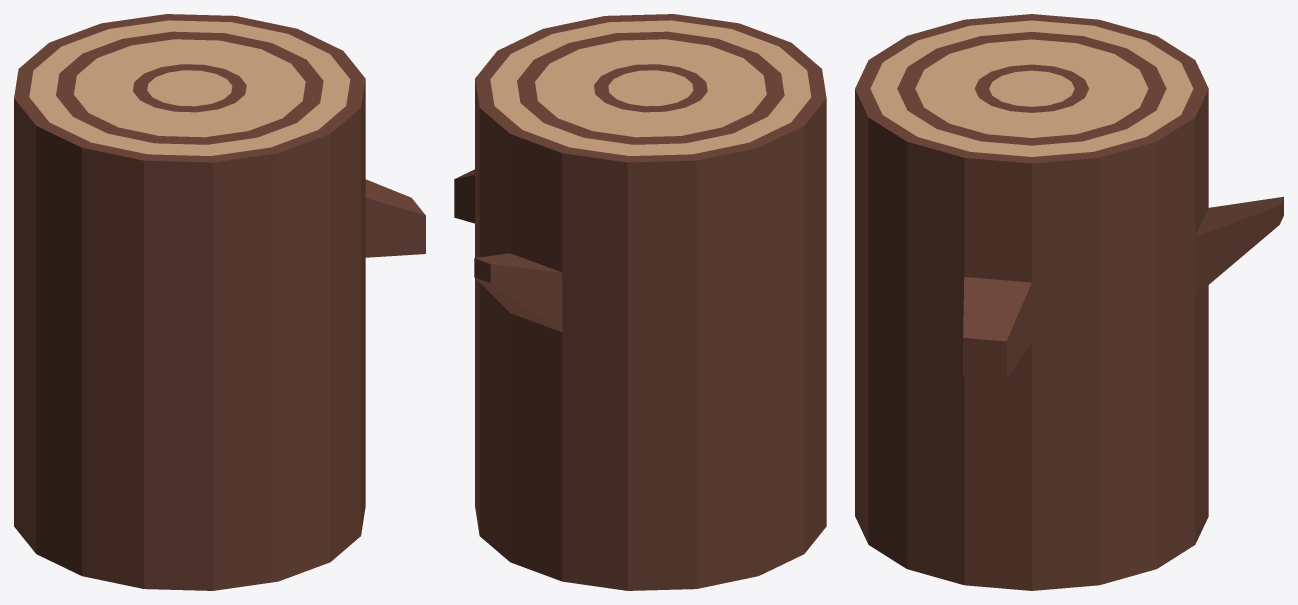
Rendered from maruta.fbx.
3 views of the same model, side by side, from view 1: azimuth 30°, elevation 25°; view 2: azimuth 150°, elevation 25°; view 3: azimuth 270°, elevation 25° (orthographic).
Visible parts, largest first — view 1: 円柱; view 2: 円柱; view 3: 円柱.
Boxes of the visible parts, box(x1,y1,x2,y2) form: 円柱: box(14, 14, 425, 590); 円柱: box(454, 14, 826, 590); 円柱: box(855, 14, 1283, 590).
Size of the model in its own units: 177 by 200 by 182.
